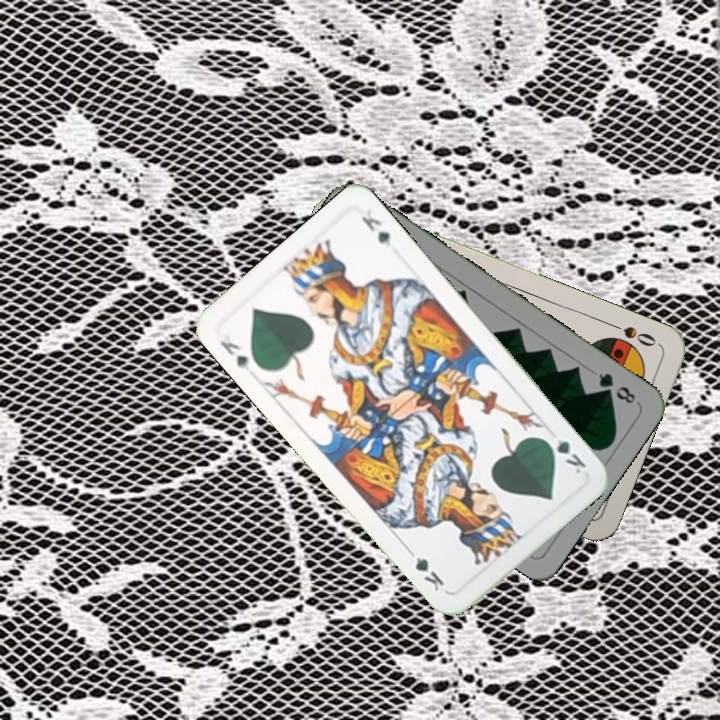G8: (594, 369, 639, 407)
GK: (539, 433, 589, 477), (216, 336, 252, 374)
SO: (606, 319, 659, 350)
